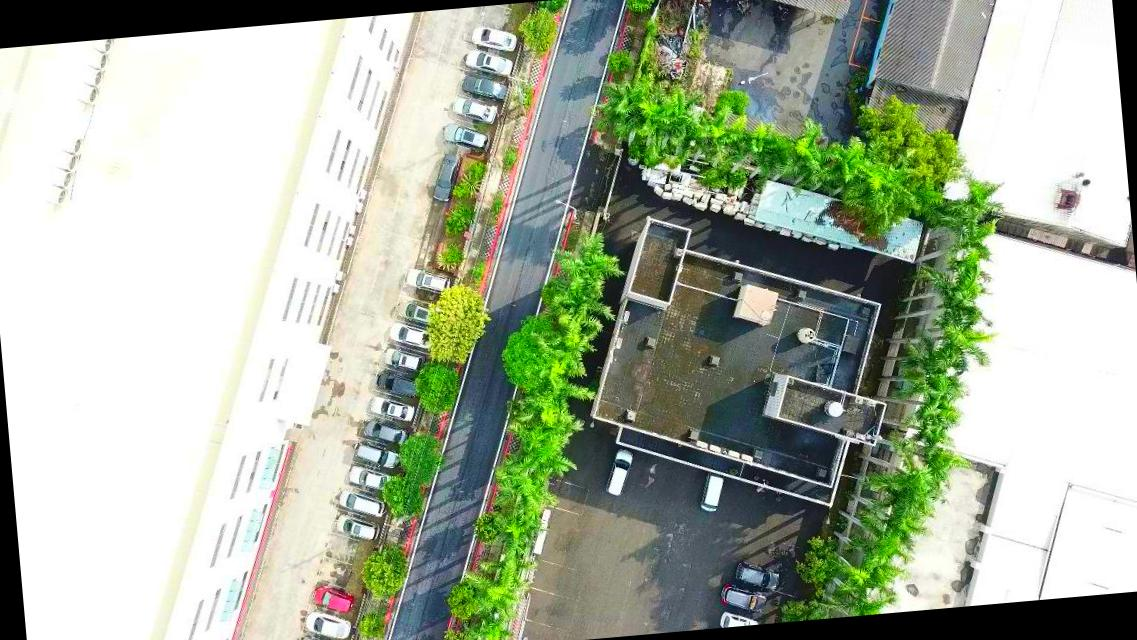vehicle: (386, 320, 438, 356), (428, 150, 463, 202), (441, 118, 491, 154), (733, 558, 782, 594), (465, 46, 515, 81), (468, 22, 519, 56), (346, 463, 394, 498), (368, 392, 417, 426), (338, 488, 387, 522), (374, 368, 422, 402), (359, 416, 409, 448), (719, 582, 766, 616), (404, 264, 451, 297), (602, 448, 634, 496), (351, 440, 399, 472), (334, 510, 378, 544), (304, 608, 352, 639), (452, 95, 498, 126), (396, 296, 438, 328), (698, 471, 727, 514), (462, 74, 506, 102), (382, 346, 426, 374), (313, 585, 354, 613), (718, 608, 758, 627), (297, 631, 351, 639)
